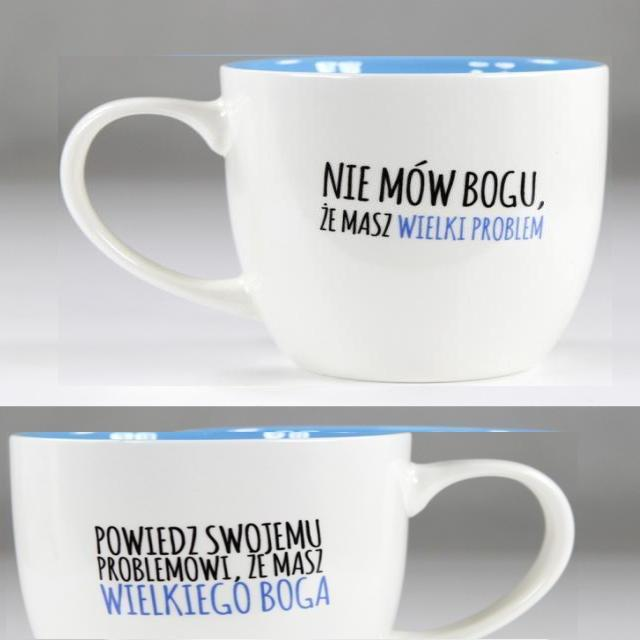Coffee Mug: (56, 54, 610, 382), (11, 431, 576, 640)
